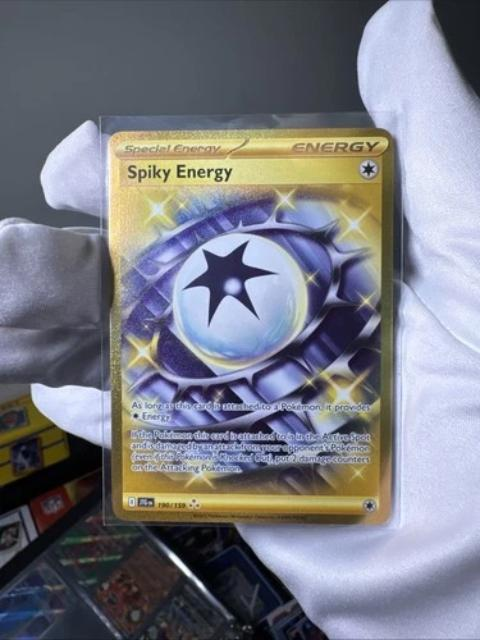Card: (101, 124, 398, 526)
Name: (123, 157, 241, 188)
